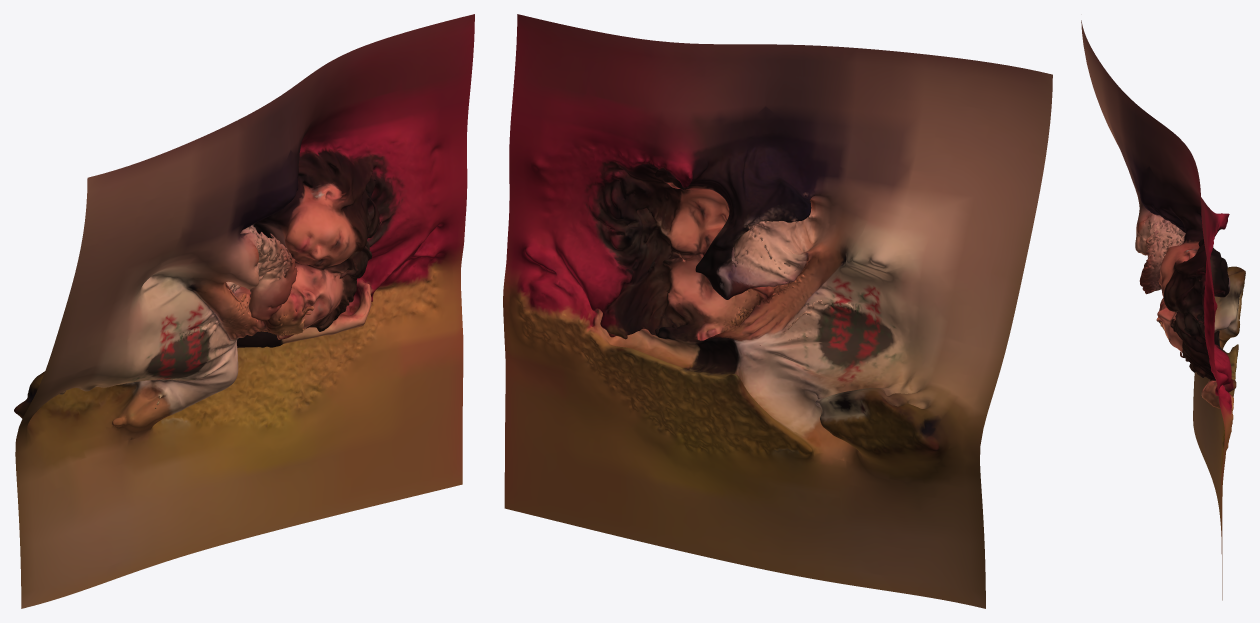
The model's file is love.obj.
The picture shows the model from 3 angles, left to right: view 1: azimuth 30°, elevation 25°; view 2: azimuth 150°, elevation 25°; view 3: azimuth 270°, elevation 25°; orthographic projection. The views are drawn at different scales.
Bounding box in the file's own units: 1.18 × 1.18 × 0.4329.
